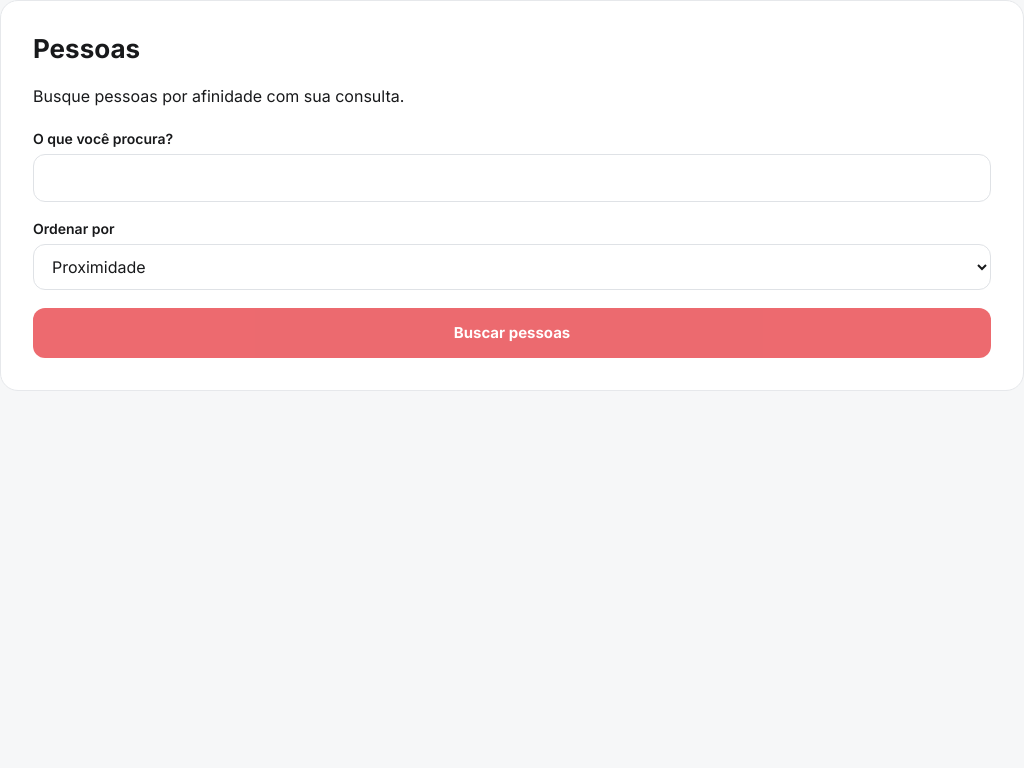
Test: representa vínculo accepted de me
The width and height of the screenshot is (1024, 768).
Type "tecnologia" into the field labelled "O que você procura?".
click(512, 178); type("tecnologia")  # box top-left (33, 154), bottom-right (991, 202)
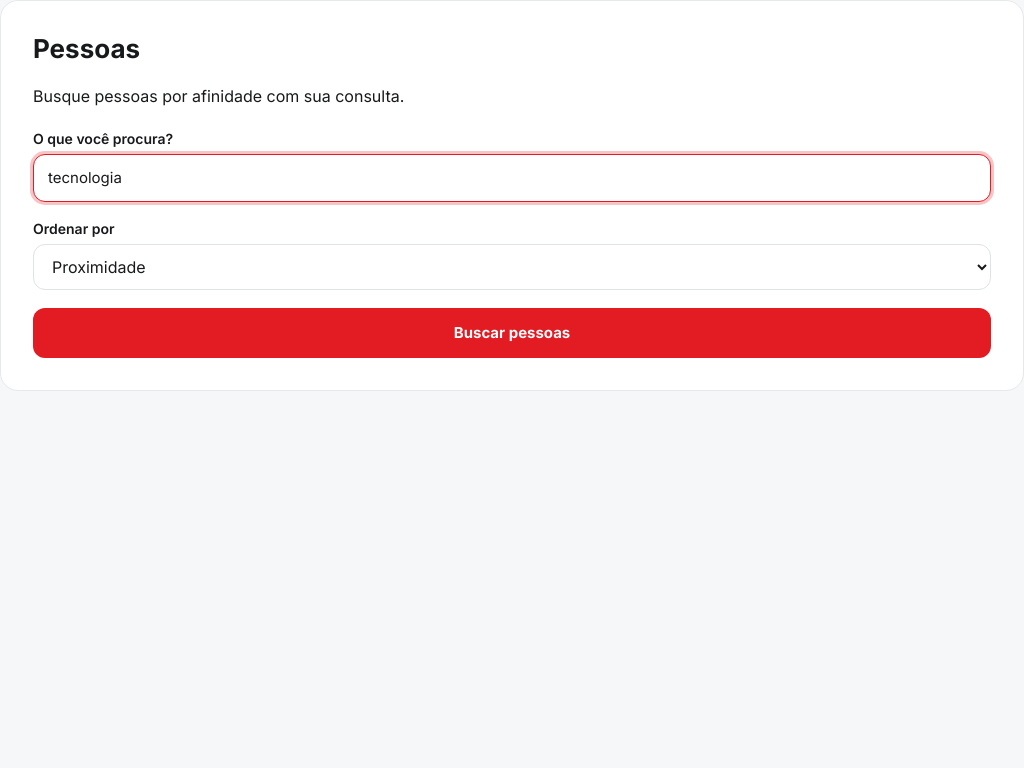
Click the button "Buscar pessoas".
click(512, 333)  # box top-left (33, 308), bottom-right (991, 358)
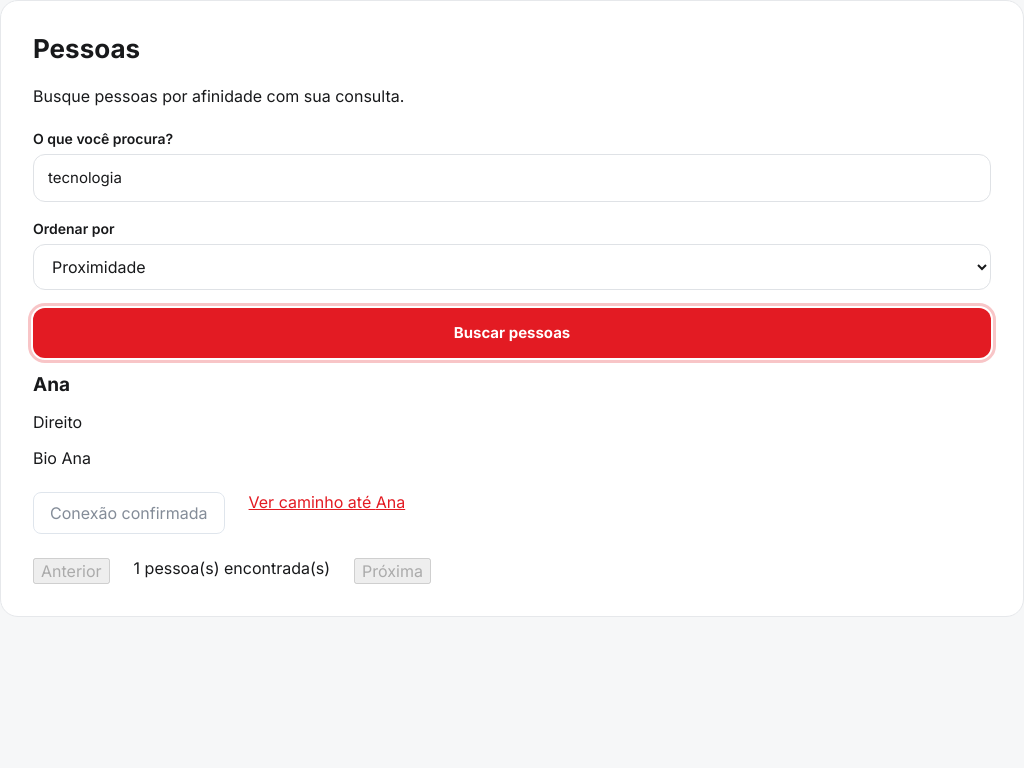
Expected: the heading "Ana" is shown, top-left (33, 373), bottom-right (70, 396)
Expected: the button "Conexão confirmada" is disabled, top-left (33, 492), bottom-right (225, 534)
